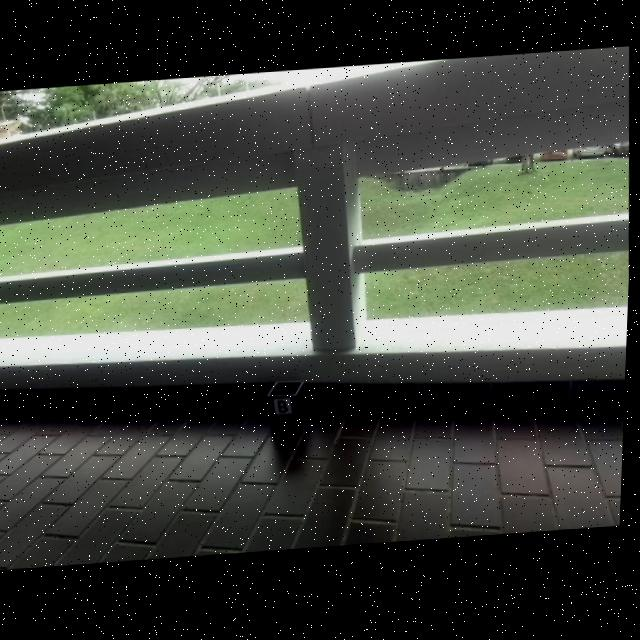B: (280, 401, 291, 416)
